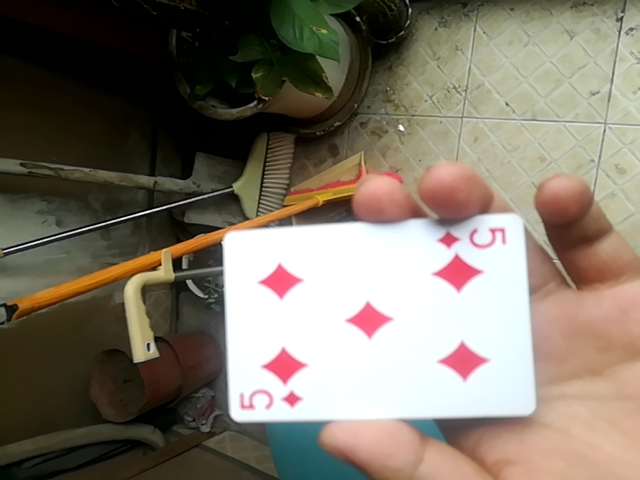fk 5: (215, 209, 539, 424)
